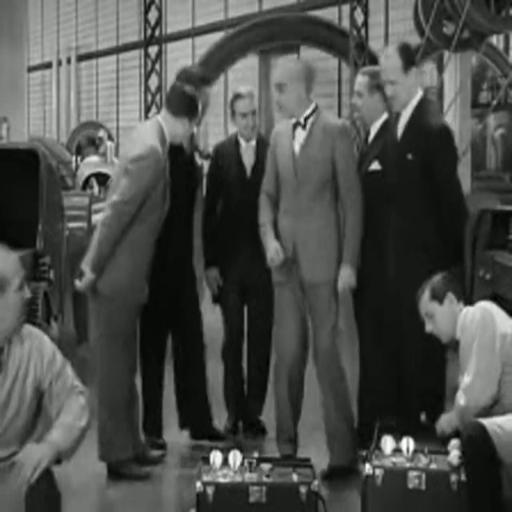nao-violencia: (60, 28, 488, 449)
